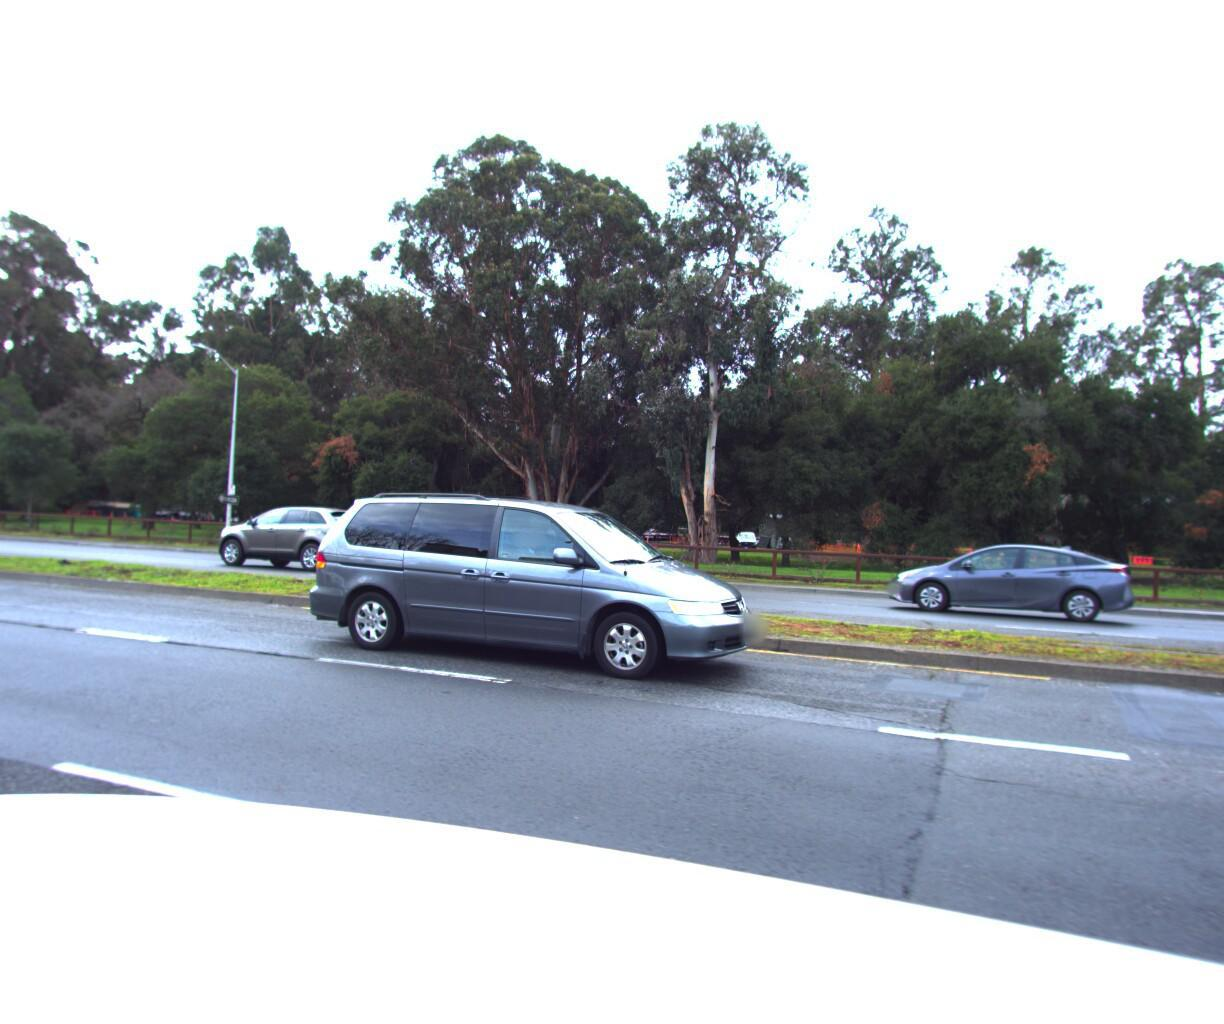car: (292, 486, 771, 704), (880, 534, 1137, 633), (204, 503, 384, 582)
